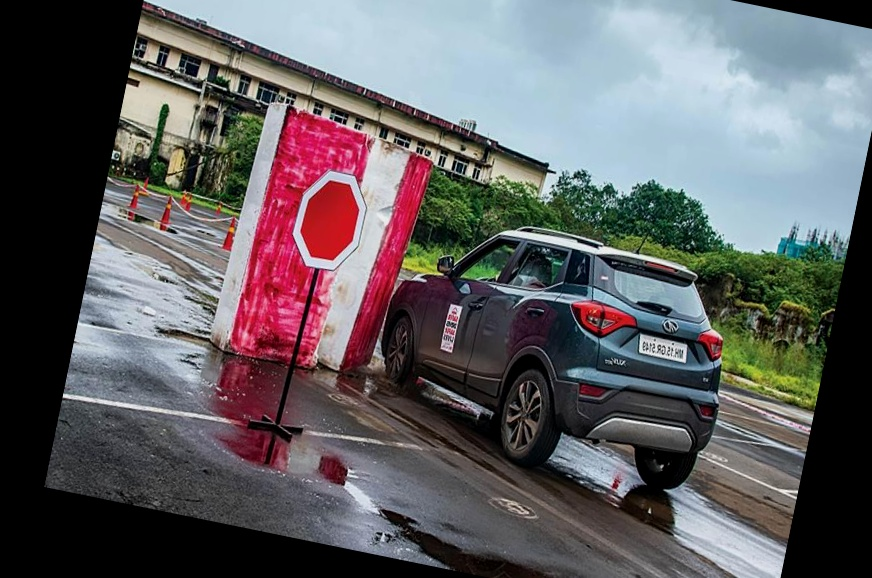car: (358, 174, 766, 513)
